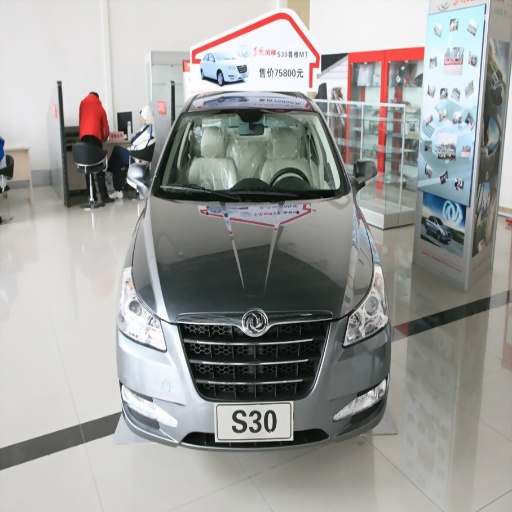front_bumper: (117, 309, 388, 450)
front_right_light: (119, 266, 167, 351)
hood: (139, 196, 370, 321)
